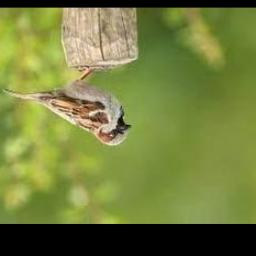Sparrow: (3, 67, 132, 146)
